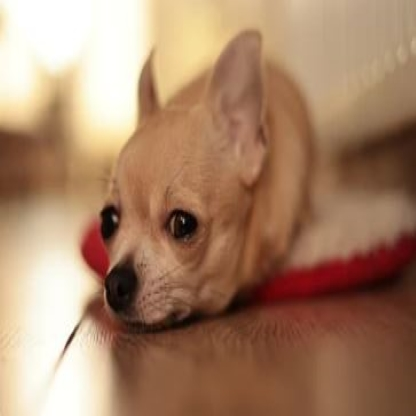chihuahua: (95, 25, 317, 332)
